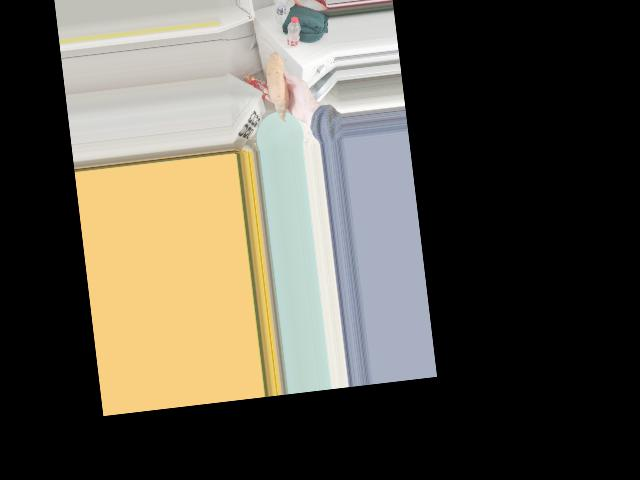sweet_potato: (267, 59, 294, 109)
